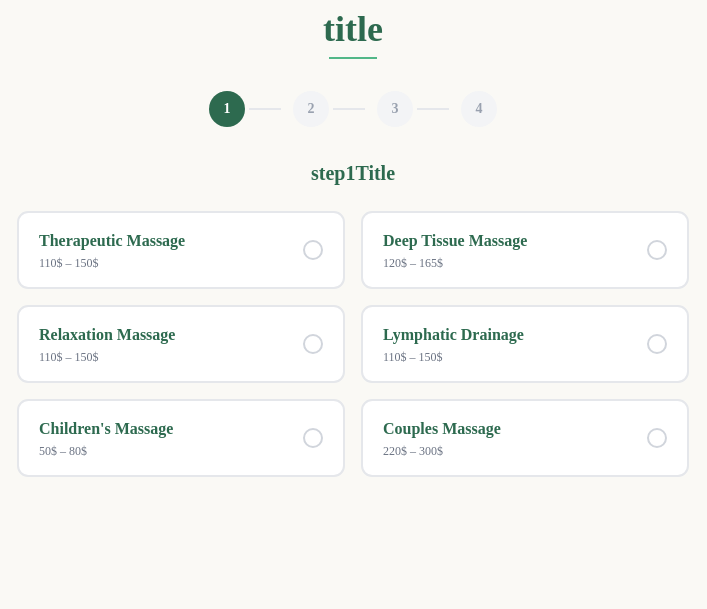
Test: BookingWizard › 6. step 3 shows available time slots and hides unavailable ones
The width and height of the screenshot is (707, 609).
Click the button with test id "service-card-therapeutic".
click(181, 250)  # box [19, 213, 343, 287]
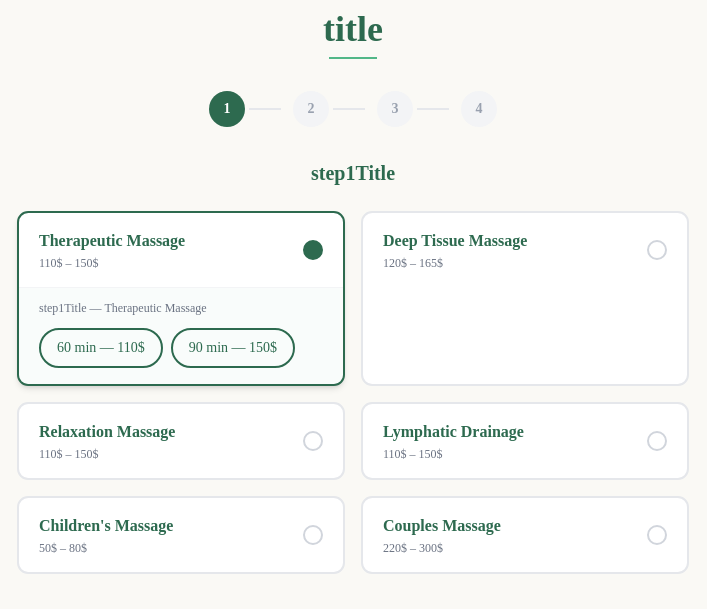
Click the button with test id "duration-btn-therapeutic-60".
click(101, 348)  # box [39, 328, 163, 368]
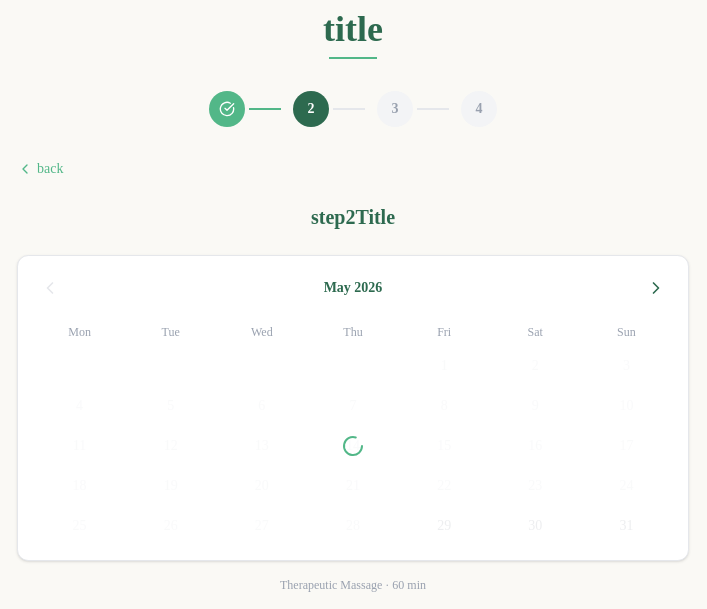
Check: the button named "nextMonth" is shown
Click the button named "nextMonth".
click(656, 288)  # box [640, 272, 672, 304]
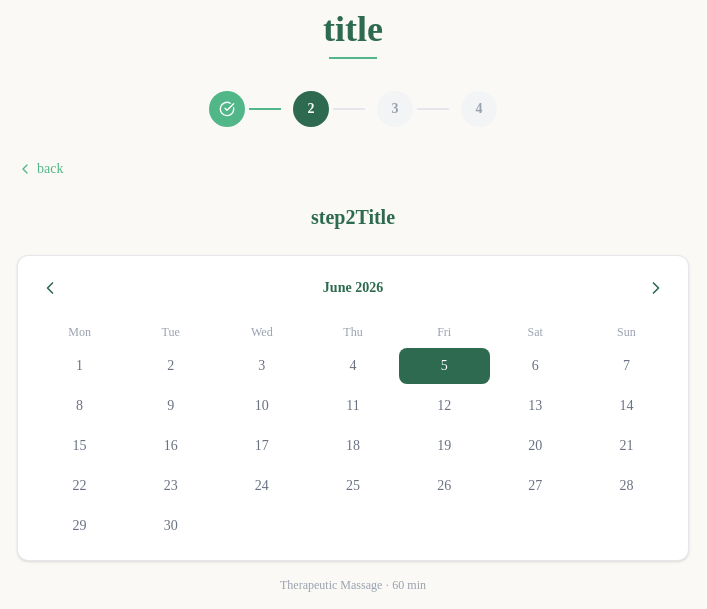
Check: the button "5" is enabled
Click the button "5".
click(444, 366)  # box [399, 348, 490, 384]
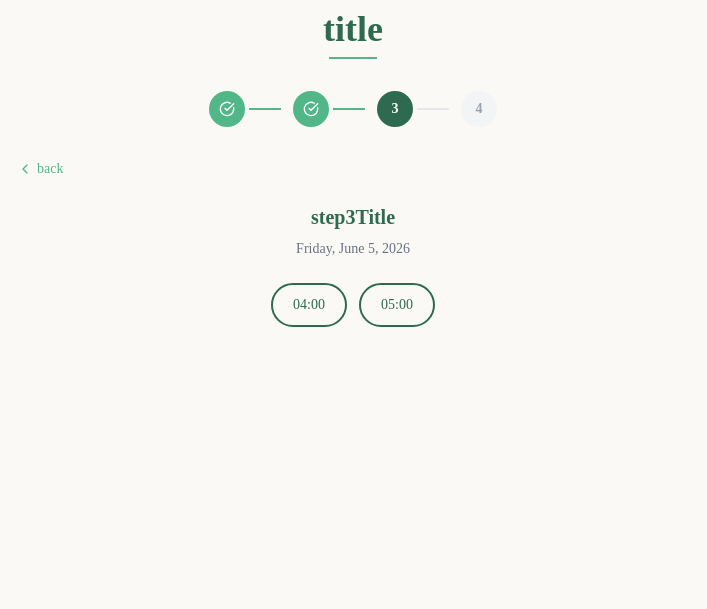
Check: the button with test id "time-slot-09:00" is shown, box [271, 283, 347, 327]
Check: the button with test id "time-slot-10:00" is shown, box [359, 283, 435, 327]
